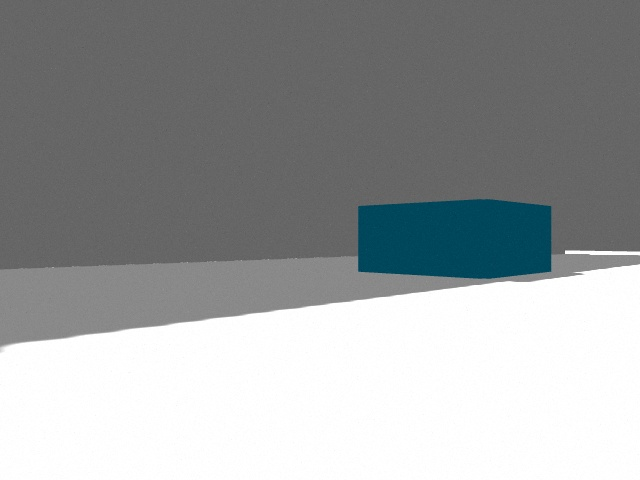blue_drop_zone: (358, 199, 551, 279)
